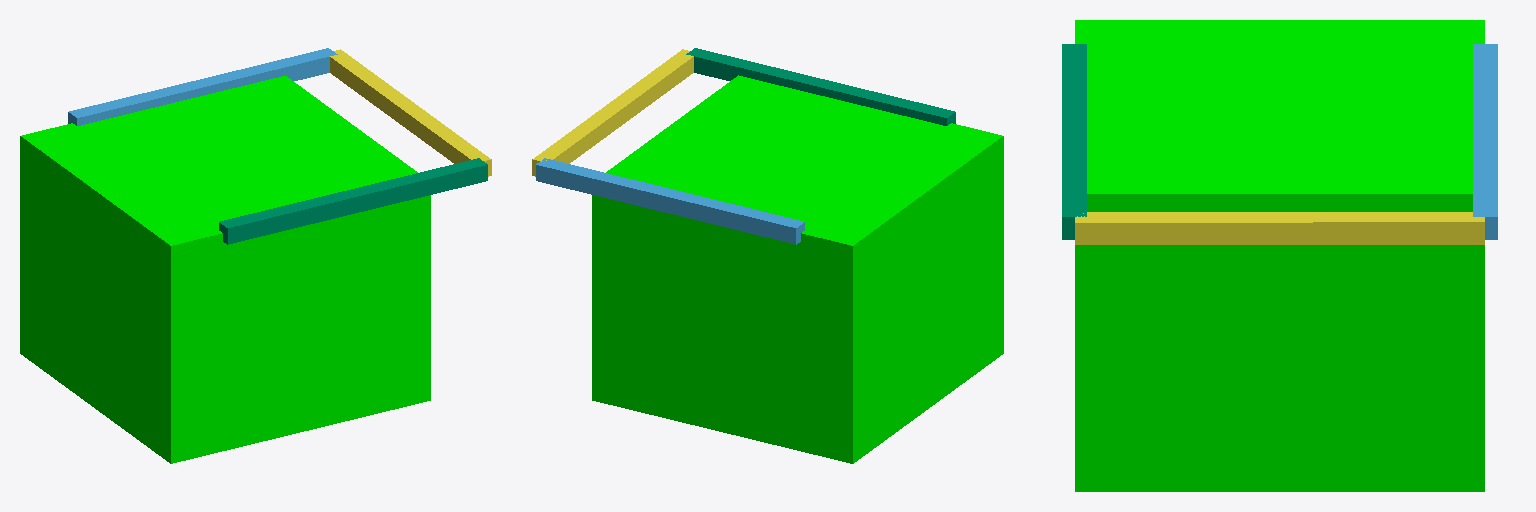
robot.urdf — dustbin:
<?xml version="1.0"?>
<robot name="dustbin">
  <!-- Main body (box representing the dustbin) -->
  <link name="base_link">
    <visual>
      <origin rpy="0 0 0" xyz="0 0 0"/>
      <geometry>
        <box size="0.5 0.5 0.4"/>
      </geometry>
      <material name="green">
        <color rgba="0 1 0 1"/>
      </material>
    </visual>
    <collision>
      <origin rpy="0 0 0" xyz="0 0 0"/>
      <geometry>
        <box size="0.5 0.5 0.4"/>
      </geometry>
    </collision>
    <inertial>
      <mass value="1.0"/>
      <origin rpy="0 0 0" xyz="0 0 0"/>
      <inertia ixx="0.1" ixy="0" ixz="0" iyy="0.1" iyz="0" izz="0.1"/>
    </inertial>
  </link>

  <!-- Horizontal handle -->
  <link name="handle_link_l">
    <visual>
      <geometry>
        <!-- <cylinder length="0.5" radius="0.02"/> -->
                <box size="0.03 0.03 0.5"/>
      </geometry>
      <material name="silver"/>
    </visual>
    <collision>
      <geometry>
        <!-- <cylinder length="0.5" radius="0.02"/> -->
                <box size="0.03 0.03 0.5"/>

      </geometry>
    </collision>
    <inertial>
      <mass value="0.01"/>
      <origin rpy="0 1.57 0" xyz="0.25 0 0.4"/>
      <inertia ixx="0.0001" ixy="0" ixz="0" iyy="0.0001" iyz="0" izz="0.0001"/>
    </inertial>
  </link>

  <link name="handle_link_r">
    <visual>
      <geometry>
        <!-- <cylinder length="0.5" radius="0.02"/> -->
                <box size="0.03 0.03 0.5"/>
      </geometry>
      <material name="silver"/>
    </visual>
    <collision>
      <geometry>
        <!-- <cylinder length="0.5" radius="0.02"/> -->
                <box size="0.03 0.03 0.5"/>

      </geometry>
    </collision>
    <inertial>
      <mass value="0.01"/>
      <origin rpy="0 1.57 0" xyz="0.25 0 0.4"/>
      <inertia ixx="0.0001" ixy="0" ixz="0" iyy="0.0001" iyz="0" izz="0.0001"/>
    </inertial>

  </link>

   <link name="central_link">
    <visual>
      <geometry>
        <!-- <cylinder length="0.5" radius="0.02"/> -->
                <box size="0.03 0.03 0.5"/>
      </geometry>
      <material name="silver"/>
    </visual>
    <collision>
      <geometry>
        <!-- <cylinder length="0.5" radius="0.02"/> -->
                <box size="0.03 0.03 0.5"/>

      </geometry>
    </collision>
    <inertial>
      <mass value="0.01"/>
      <origin rpy="1.57 0 0" xyz="0 0 0"/>
      <inertia ixx="0.0001" ixy="0" ixz="0" iyy="0.0001" iyz="0" izz="0.0001"/>
    </inertial>
  </link>

  <!-- Joint connecting handle to the dustbin -->
  <joint name="handle_joint_l" type="fixed">
    <parent link="base_link"/>
    <child link="handle_link_l"/>
    <origin rpy="0 1.57 0" xyz="0.1 0.25 0.2"/>
  </joint>

  <joint name="handle_joint_r" type="fixed">
    <parent link="base_link"/>
    <child link="handle_link_r"/>
    <origin rpy="0 1.57 0" xyz="0.1 -0.25 0.2"/>
  </joint>

  <joint name="central_joint_l" type="fixed">
    <parent link="handle_link_l"/>
    <child link="central_link"/>
    <origin rpy="1.57 0 0" xyz="0 -0.25 0.25"/>
  </joint>
  

</robot>

--- What the picture shows (computed from the rendered views, not written in the file) ---
Views: 3 orthographic renders of the robot side by side, from view 1: azimuth 30°, elevation 25°; view 2: azimuth 150°, elevation 25°; view 3: azimuth 270°, elevation 25°.
Model dustbin with 4 links and 3 joints (3 fixed), rooted at base_link, posed all joints at 0.
Visible links, largest first — view 1: base_link, handle_link_r, handle_link_l, central_link; view 2: base_link, handle_link_l, handle_link_r, central_link; view 3: base_link, central_link, handle_link_l, handle_link_r.
Boxes of the visible links, x1=… form: base_link: x1=20, y1=76, x2=430, y2=463; handle_link_r: x1=219, y1=158, x2=487, y2=244; handle_link_l: x1=68, y1=48, x2=337, y2=125; central_link: x1=330, y1=49, x2=491, y2=176; base_link: x1=592, y1=75, x2=1003, y2=463; handle_link_l: x1=536, y1=158, x2=804, y2=244; handle_link_r: x1=686, y1=48, x2=955, y2=125; central_link: x1=532, y1=49, x2=693, y2=176; base_link: x1=1075, y1=20, x2=1484, y2=491; central_link: x1=1075, y1=212, x2=1484, y2=244; handle_link_l: x1=1473, y1=44, x2=1497, y2=239; handle_link_r: x1=1062, y1=44, x2=1086, y2=239.
Bounding box of the posed robot: 0.6152 × 0.53 × 0.4152 m (x, y, z).
Geometry: primitives only (box / cylinder / sphere), no mesh files.